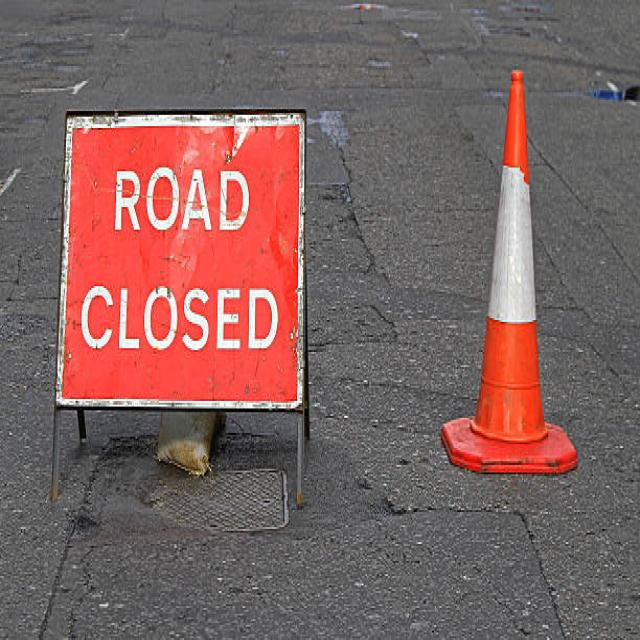Traffic Cone: (415, 56, 607, 532)
